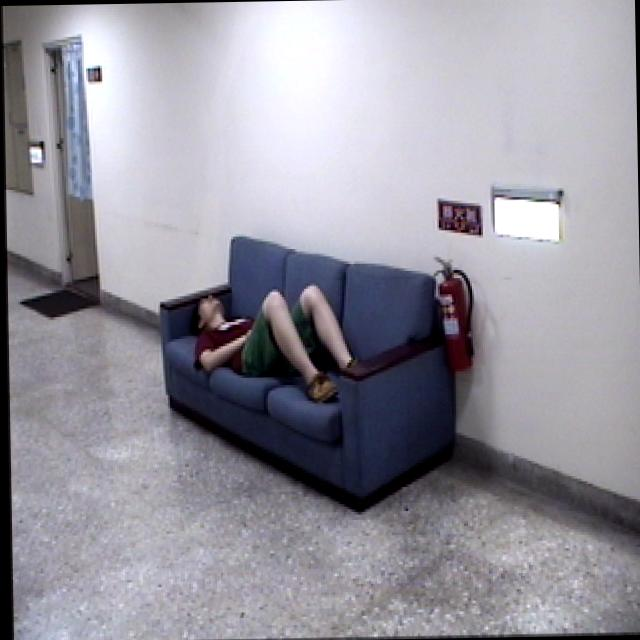lie: (184, 275, 367, 407)
